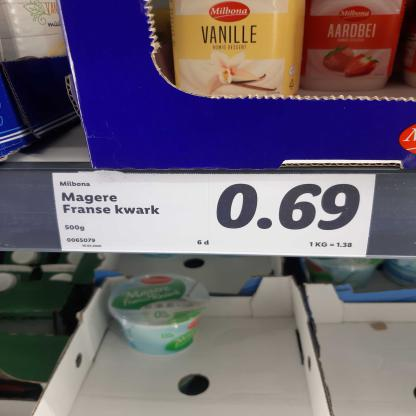prtg: (53, 174, 377, 258)
